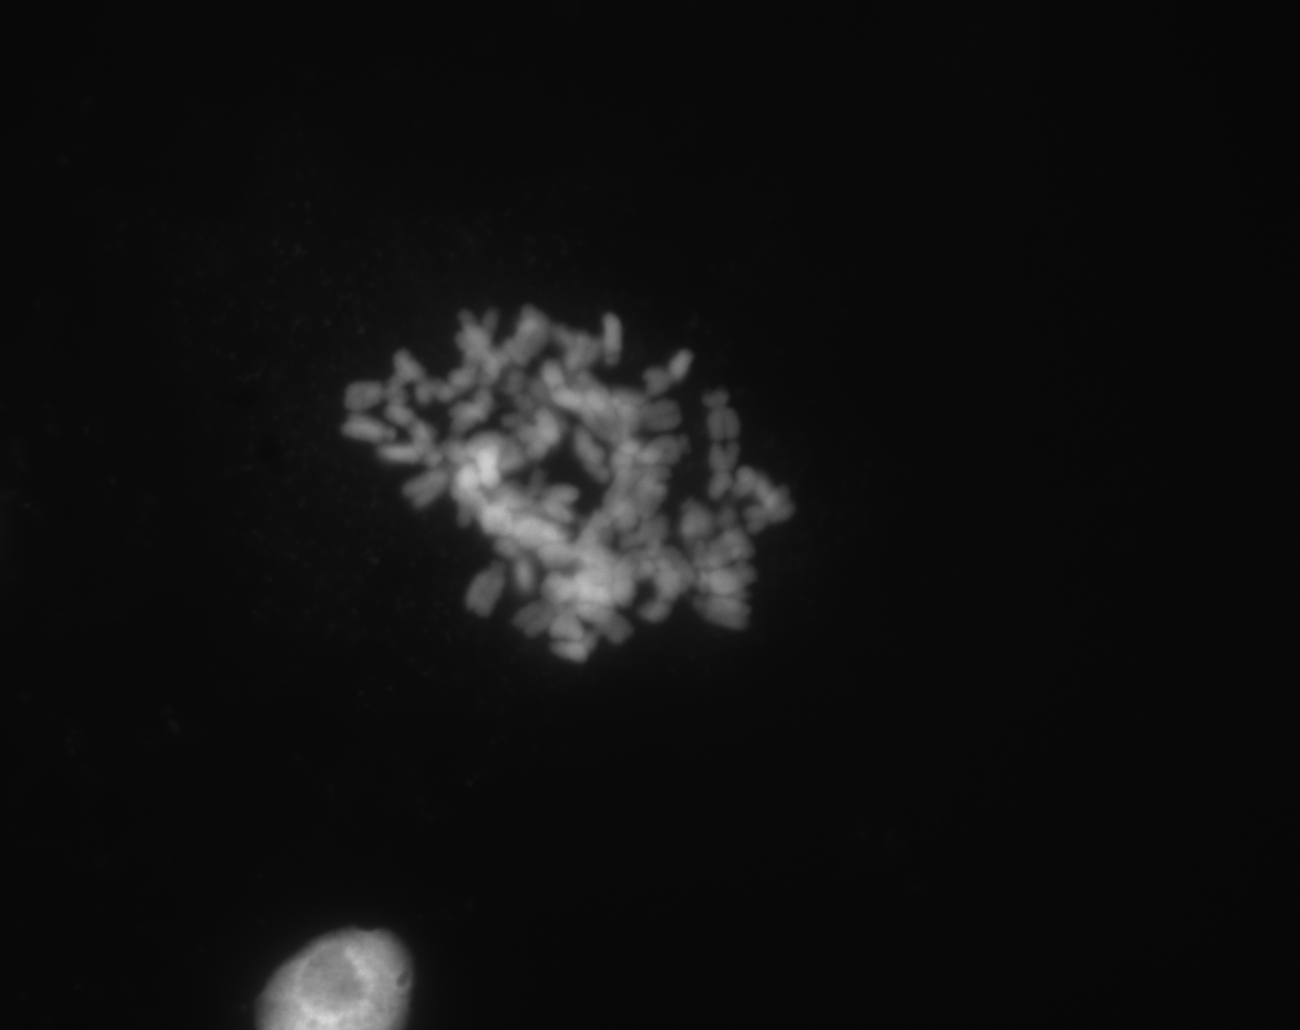Chromosomes: (280, 272, 868, 702)
Others: (228, 899, 433, 1030)
